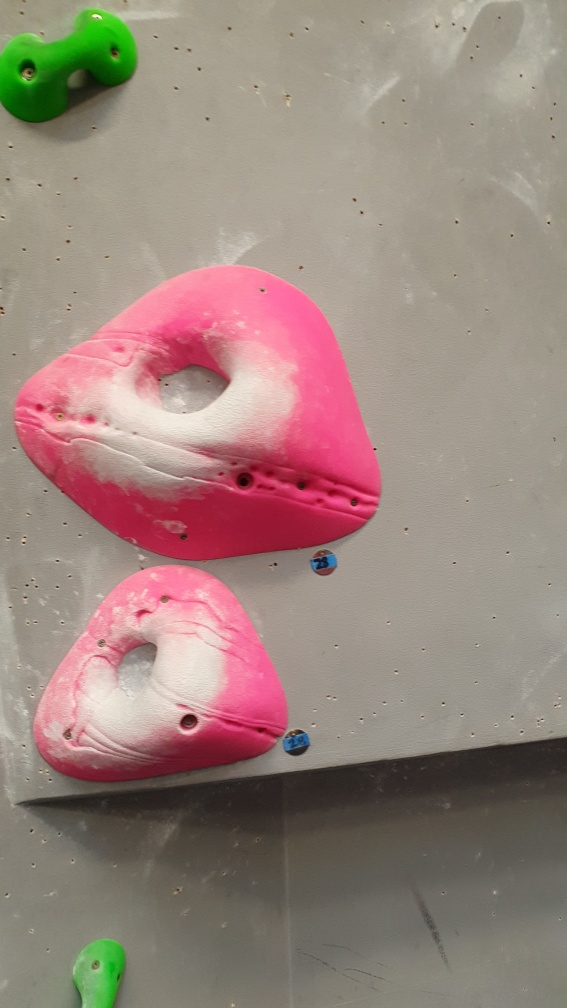Hand Start: (307, 545, 340, 580), (281, 724, 311, 760)
Pocket: (17, 261, 385, 558), (31, 564, 297, 783)
